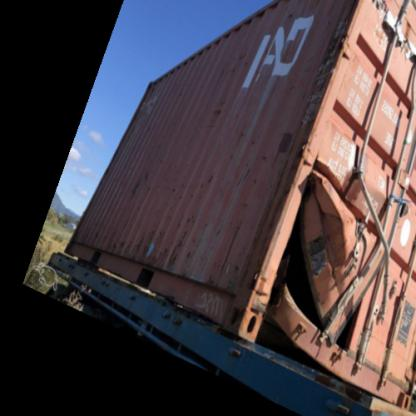Damage: (218, 15, 415, 359)
